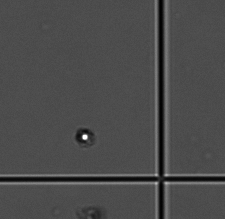Living Cell: (75, 128, 93, 145)
